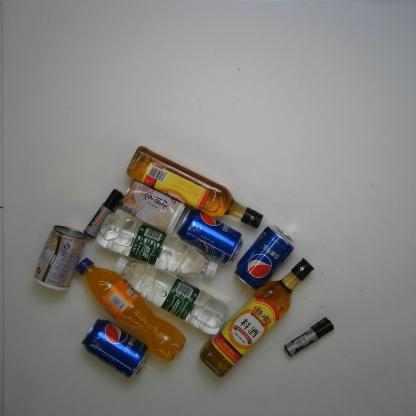Canned Food: (117, 176, 187, 236), (32, 222, 89, 293)
Drink: (74, 255, 188, 365), (110, 253, 230, 337), (93, 210, 221, 282), (78, 314, 152, 382), (232, 221, 296, 293), (176, 205, 245, 267)
Seasoner: (196, 254, 316, 380), (123, 143, 267, 232)
Stationery: (282, 313, 337, 361), (82, 186, 126, 240)
